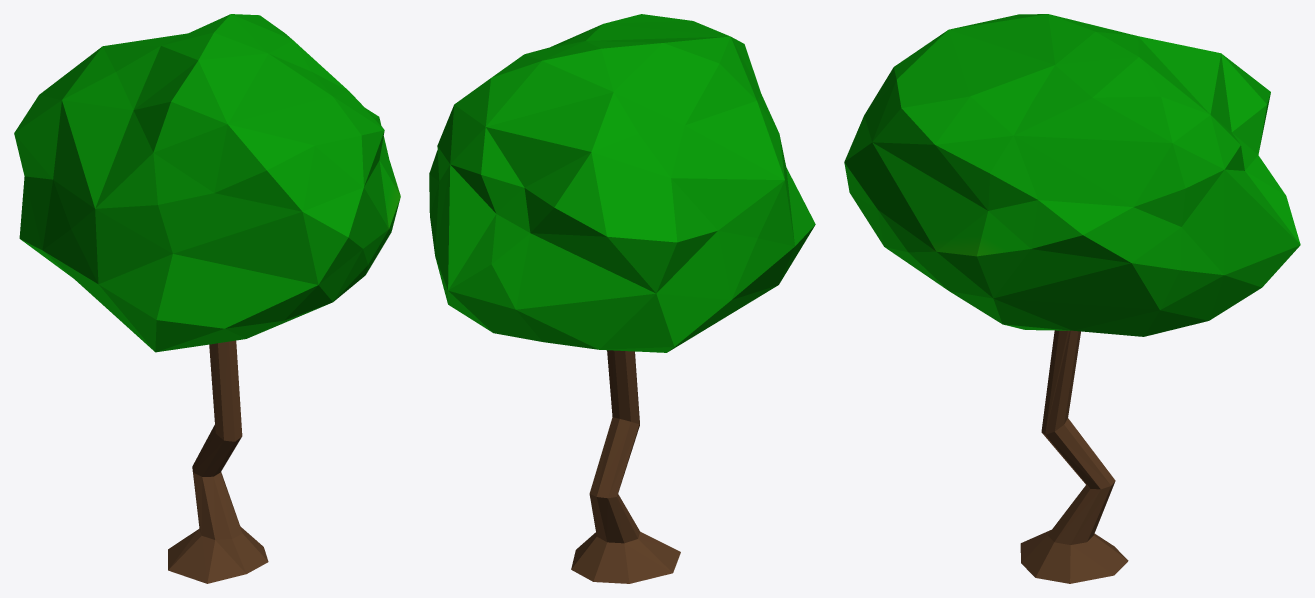
File: Trees.FBX
The picture shows the model from 3 angles, left to right: view 1: azimuth 30°, elevation 25°; view 2: azimuth 150°, elevation 25°; view 3: azimuth 270°, elevation 25°; orthographic projection. The views are drawn at different scales.
Visible parts, largest first — view 1: Cylinder001; view 2: Cylinder001; view 3: Cylinder001.
Boxes of the visible parts, x1=… form: Cylinder001: x1=14, y1=14, x2=400, y2=583; Cylinder001: x1=429, y1=14, x2=815, y2=583; Cylinder001: x1=844, y1=14, x2=1300, y2=583.
Bounding box in the file's own units: 130 × 204 × 158.
Materials: 1 (1 with a texture image).
